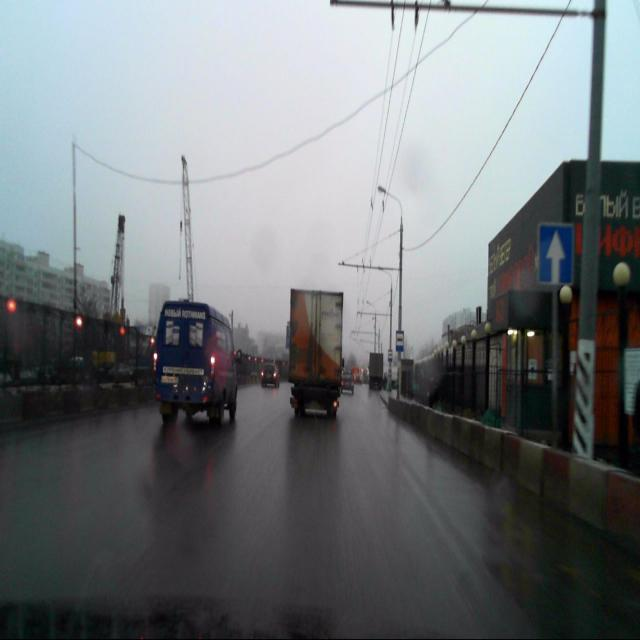road sign: (538, 222, 573, 286), (396, 331, 404, 351)
